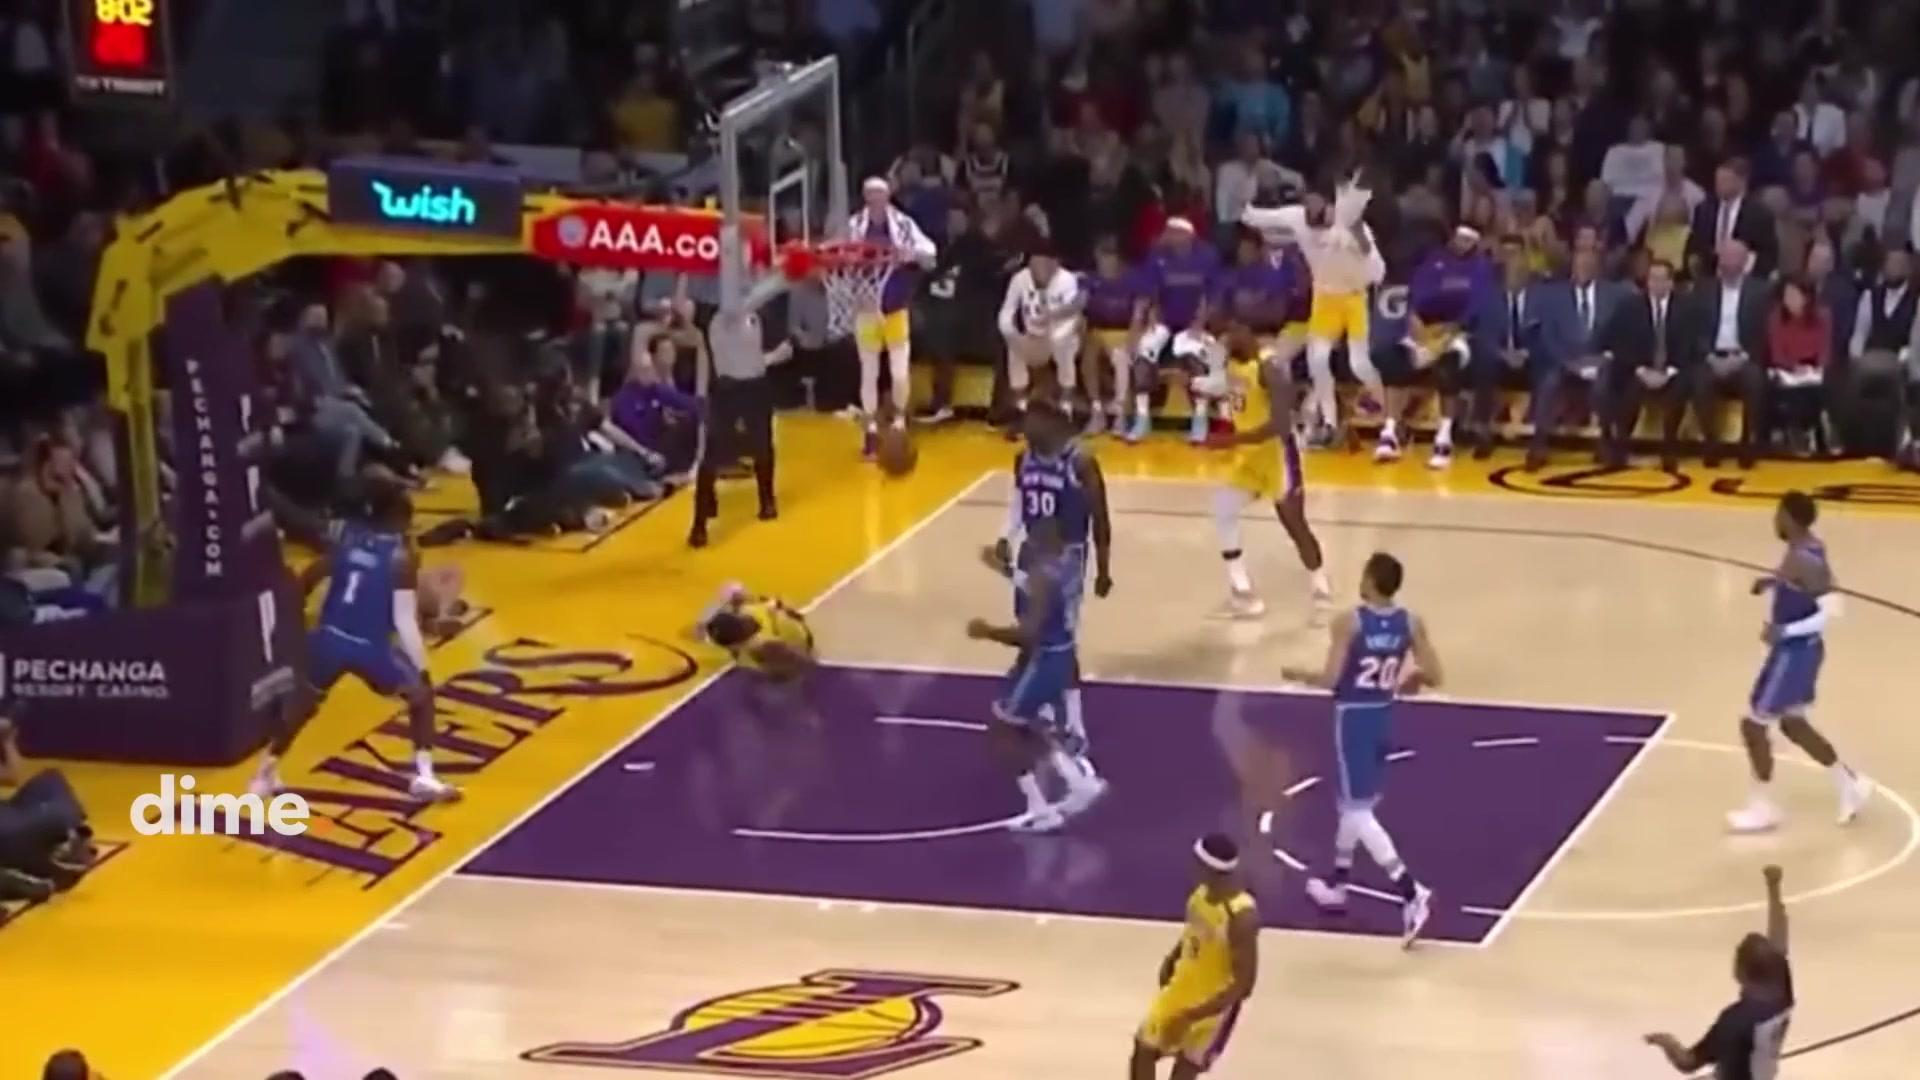no_foul: (1133, 554, 1469, 1066)
